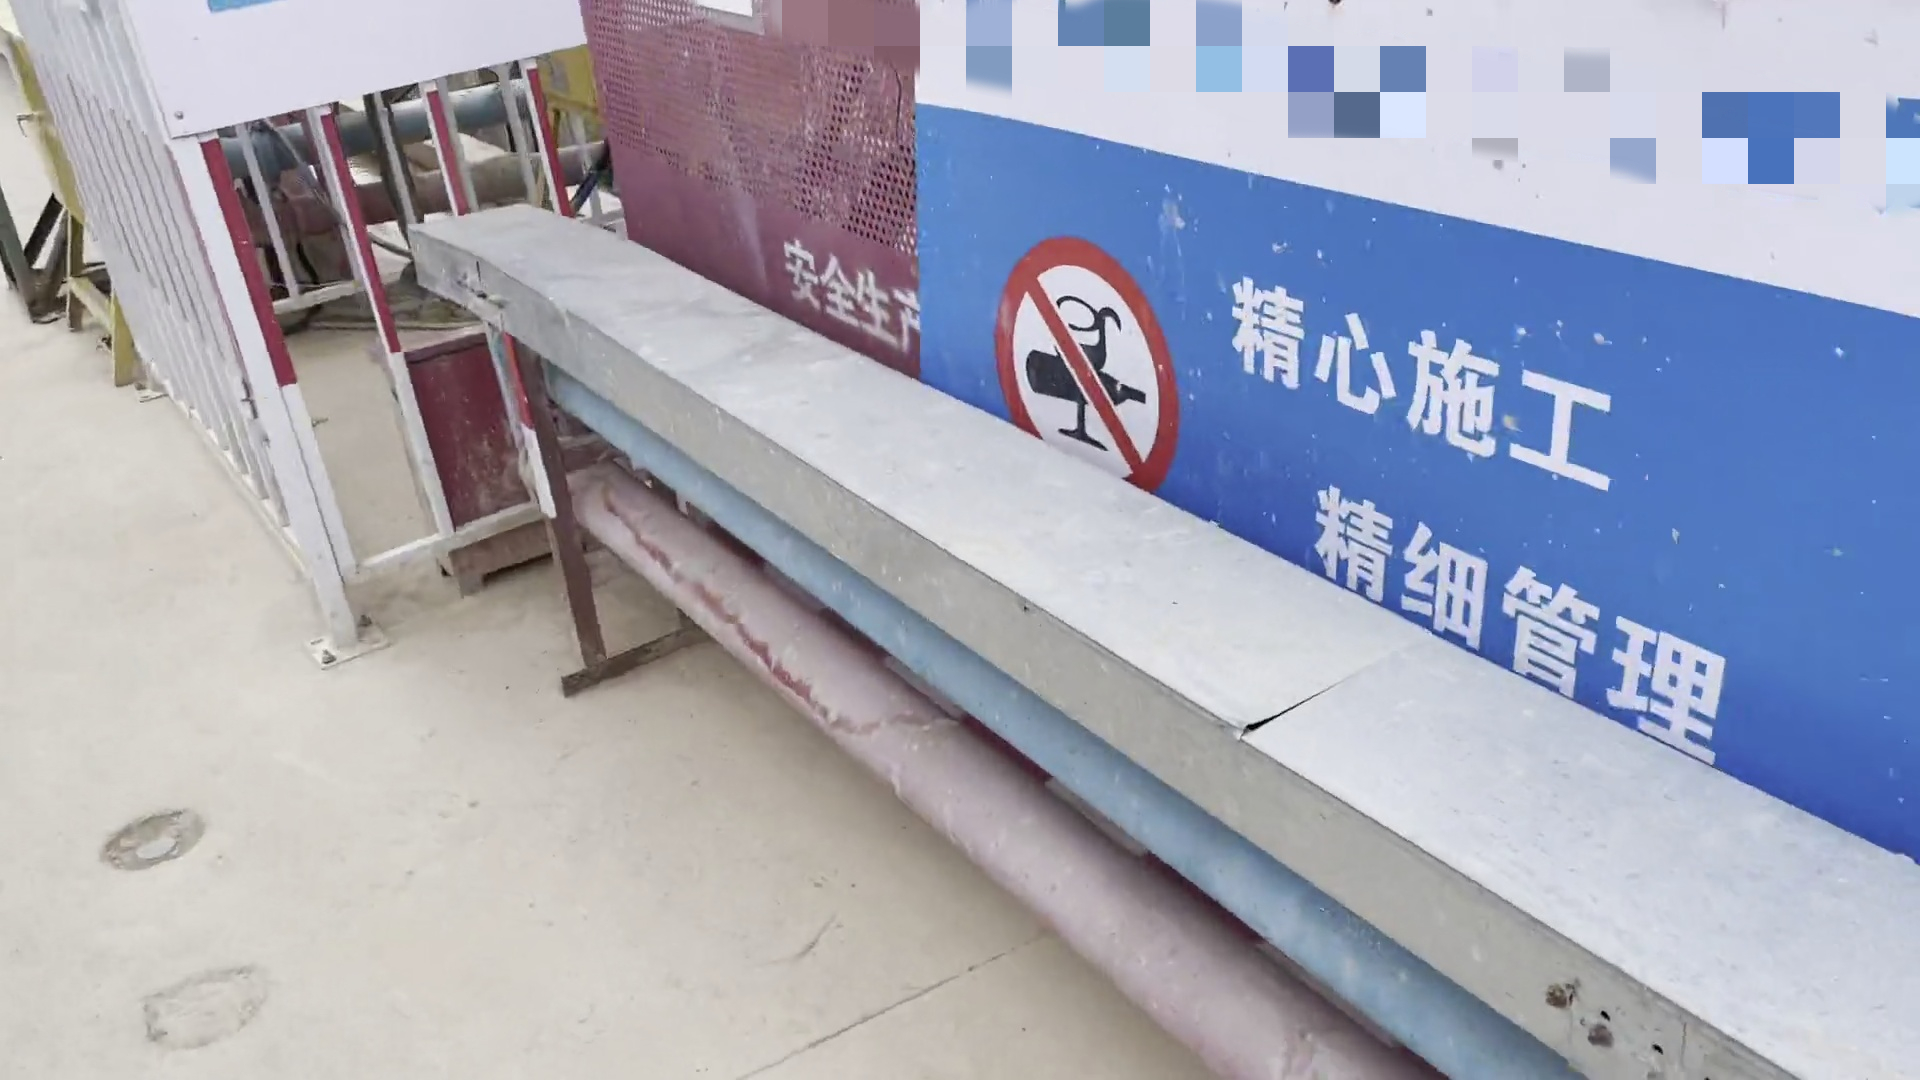ebox: (3, 22, 149, 401)
fence: (568, 1, 1920, 868)
slogan: (880, 1, 1920, 876)
